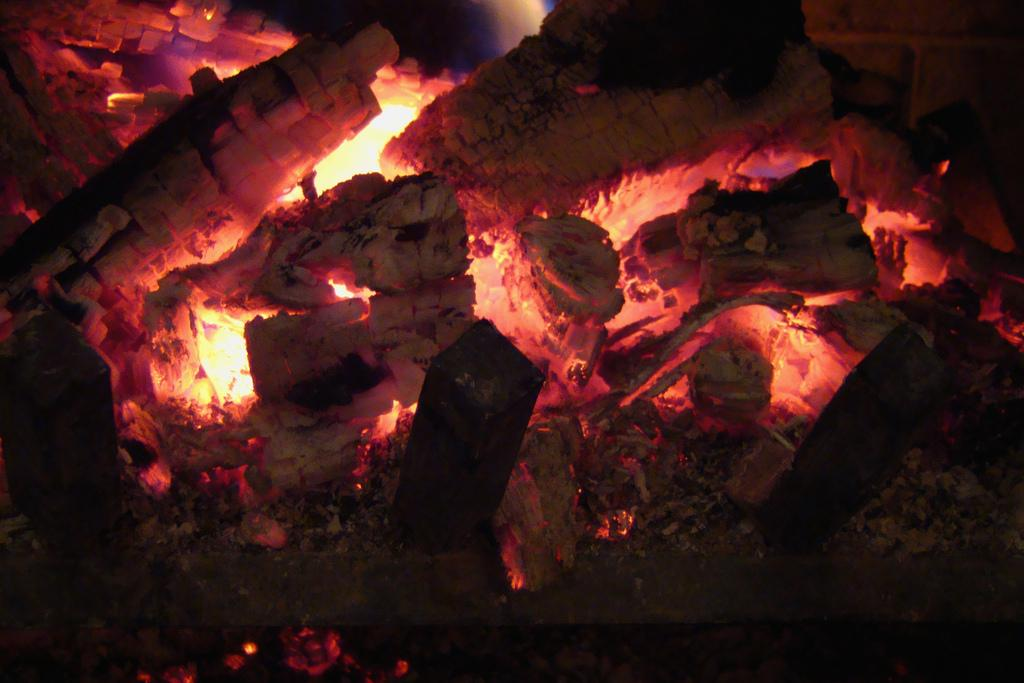fire: (338, 97, 405, 187)
